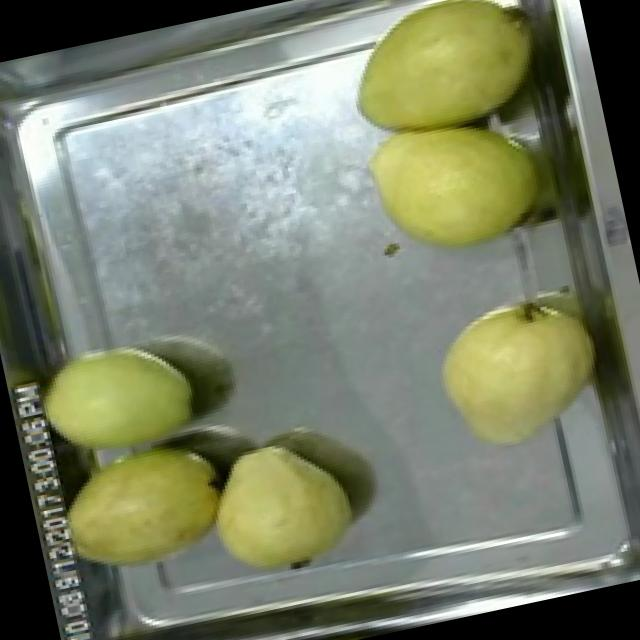Fruit: (344, 72, 568, 278), (416, 273, 621, 466), (324, 0, 565, 164), (32, 418, 245, 594), (184, 416, 374, 594), (16, 315, 215, 480)
